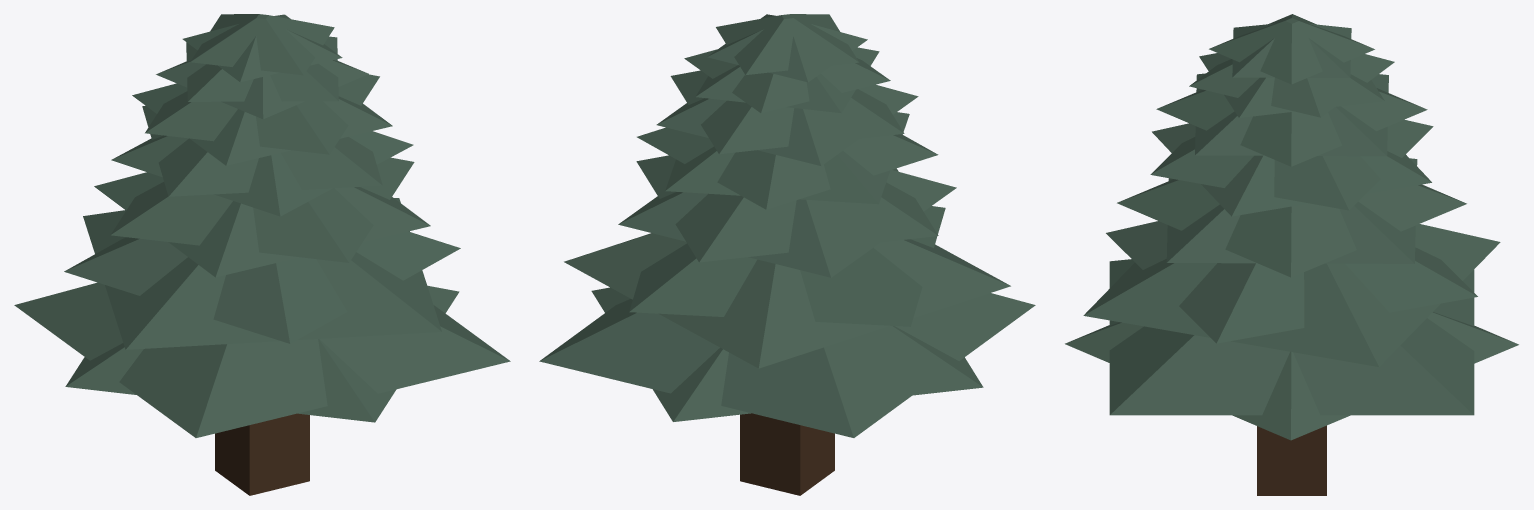
Rendered from TheTreePine.glb.
3 views of the same model, side by side, from view 1: azimuth 30°, elevation 25°; view 2: azimuth 150°, elevation 25°; view 3: azimuth 270°, elevation 25° (orthographic).
Visible parts, largest first — view 1: Cube.003, Cube; view 2: Cube.003, Cube; view 3: Cube.003, Cube.
Part boxes in pixels (<box>): Cube.003: <box>14,14,510,437</box>; Cube: <box>215,413,309,495</box>; Cube.003: <box>539,14,1035,437</box>; Cube: <box>740,413,834,495</box>; Cube.003: <box>1065,14,1518,440</box>; Cube: <box>1257,425,1326,495</box>.
Size of the model in its own units: 9.12 by 10.17 by 9.12.
2 materials, 2 textured.
